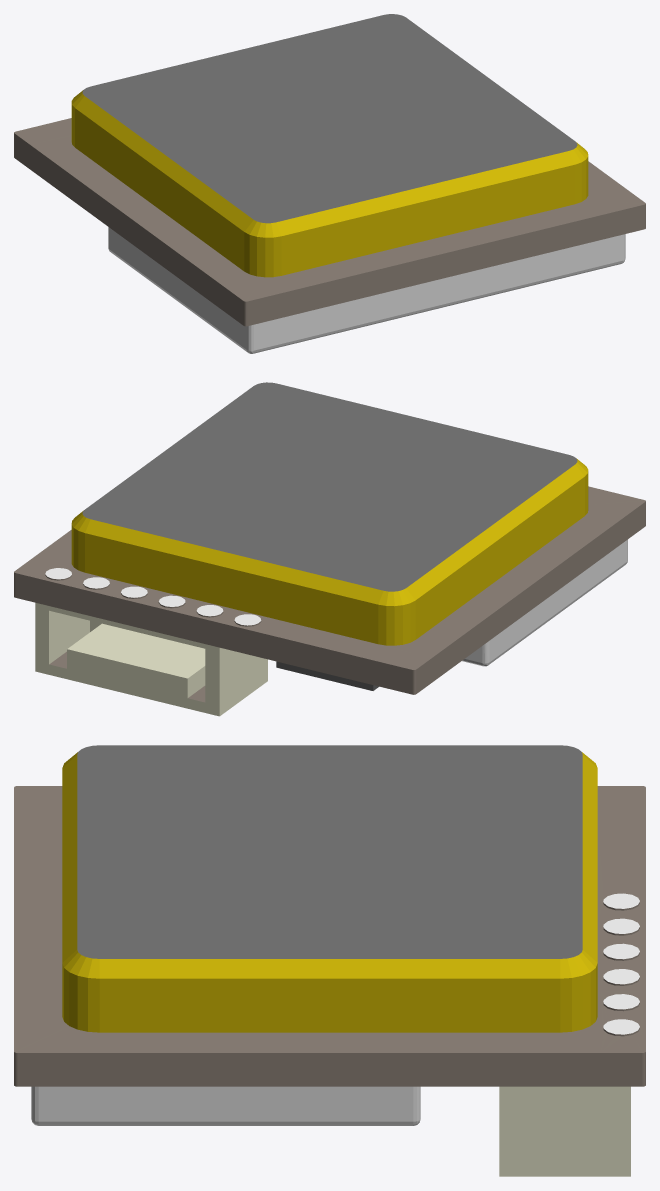
The model's file is model_hglrc_m100-De0edVAk.glb.
The picture shows the model from 3 angles, top to bottom: view 1: azimuth 30°, elevation 25°; view 2: azimuth 150°, elevation 25°; view 3: azimuth 270°, elevation 25°; orthographic projection. The views are drawn at different scales.
Size of the model in its own units: 17 by 6 by 17.
